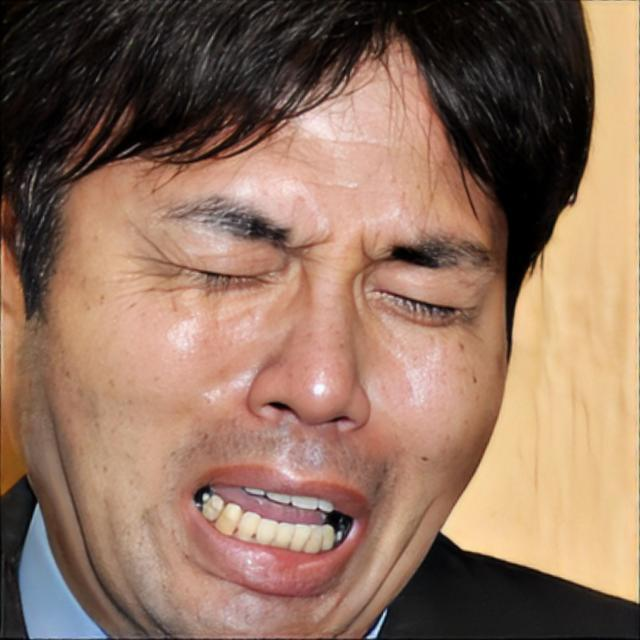sad: (18, 25, 512, 640)
